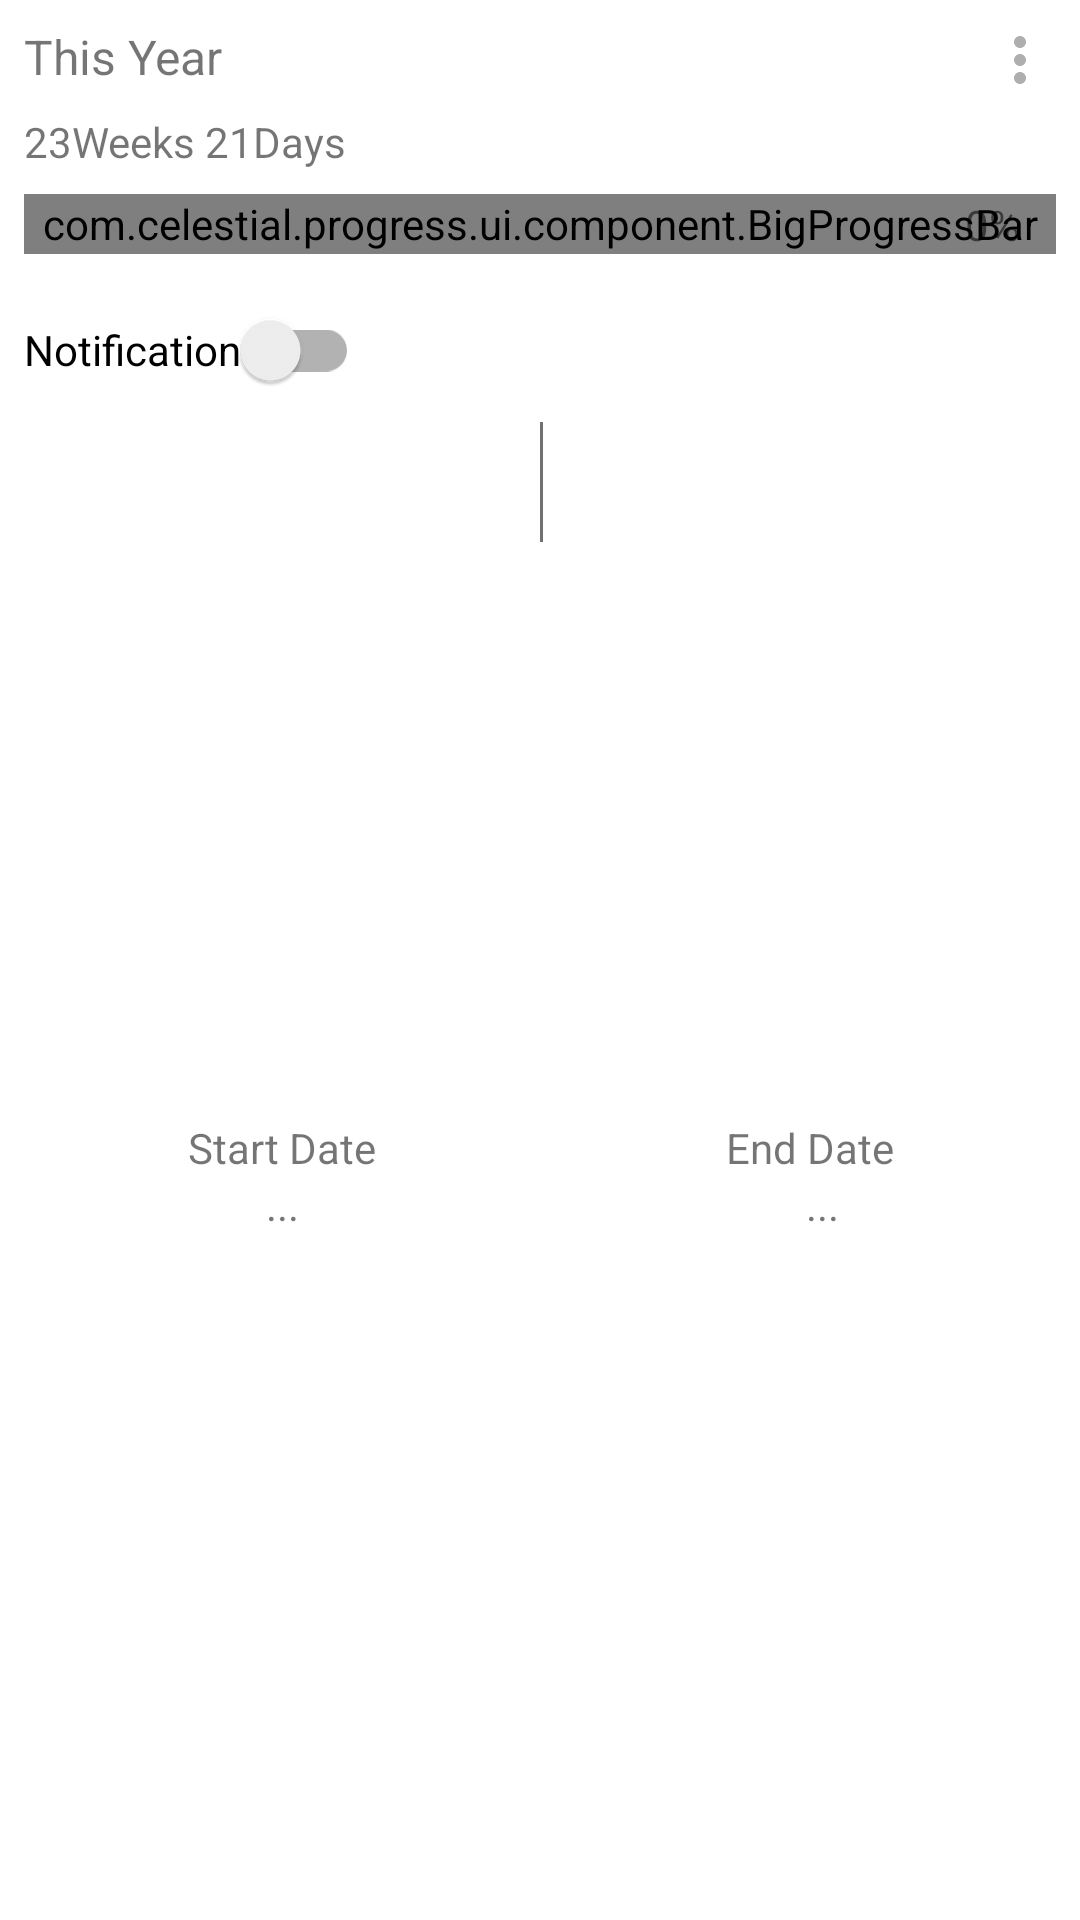

Icons on this 1080px×1920px Android screen, each with its box as (x1, y1, x2, y2):
menu: (1014, 36, 1026, 84)
